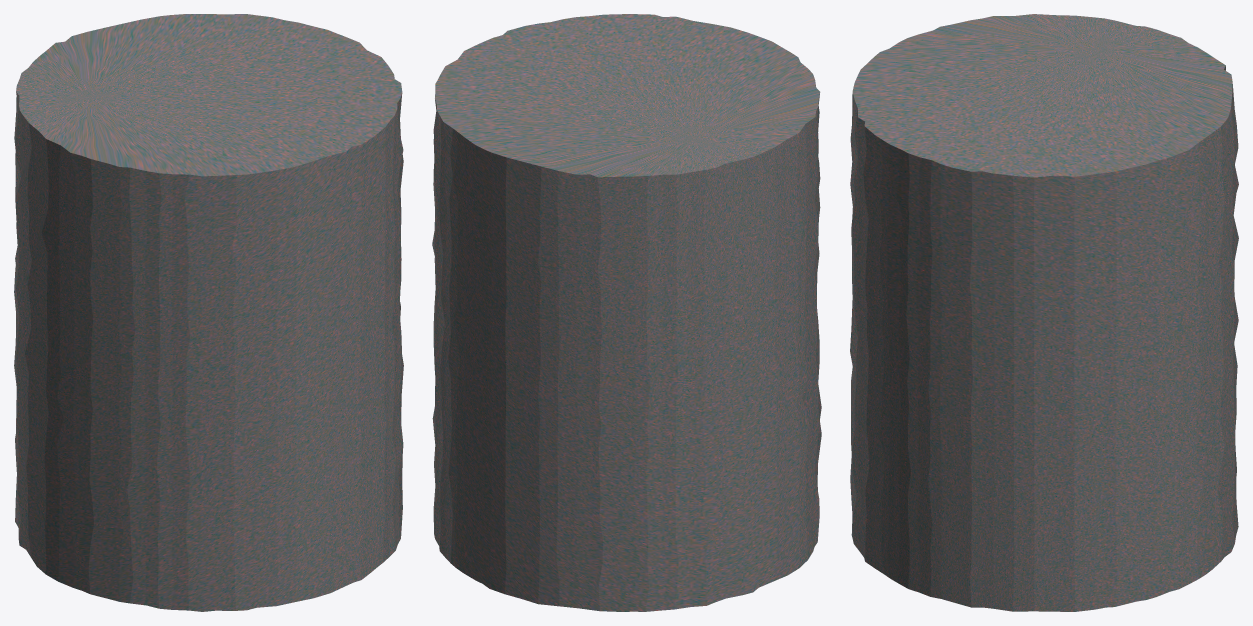
The model's file is barrel_55.dae.
3 views of the same model, side by side, from view 1: azimuth 30°, elevation 25°; view 2: azimuth 150°, elevation 25°; view 3: azimuth 270°, elevation 25° (orthographic).
Visible parts, largest first — view 1: Cylinder; view 2: Cylinder; view 3: Cylinder.
Part boxes in pixels (<box>): Cylinder: <box>14,14,403,611</box>; Cylinder: <box>432,14,821,611</box>; Cylinder: <box>850,14,1238,611</box>.
Bounding box in the file's own units: 0.8229 × 0.81 × 1.
1 material, 1 textured.
